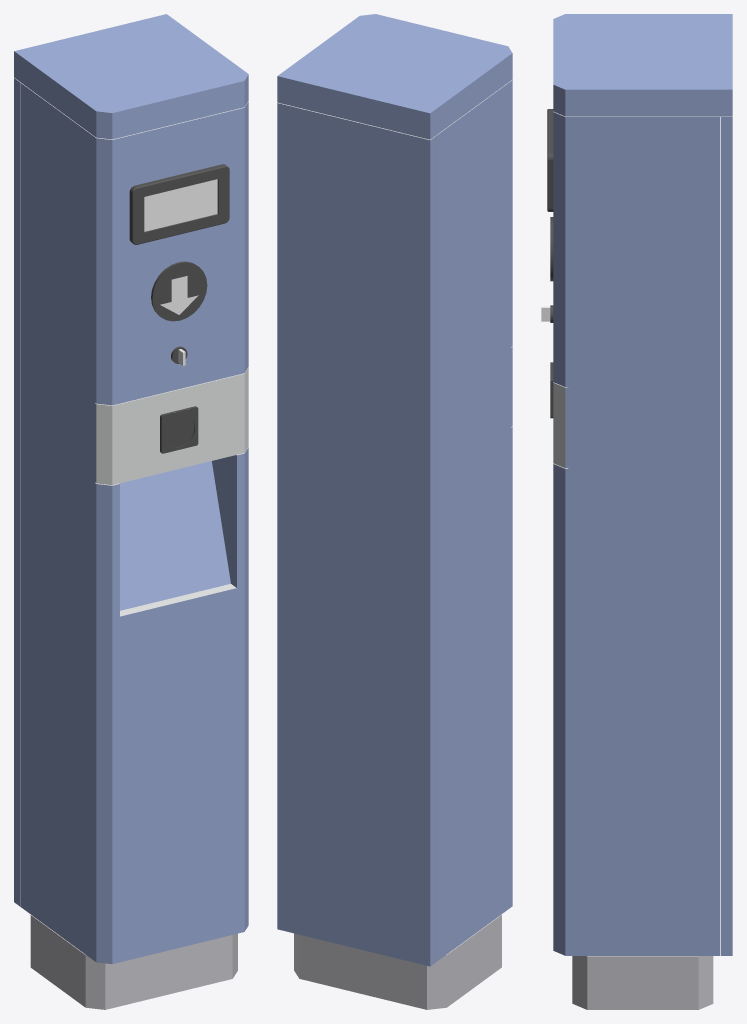
File: 直流终端1Draco.gltf
3 views of the same model, side by side, from view 1: azimuth 30°, elevation 25°; view 2: azimuth 150°, elevation 25°; view 3: azimuth 270°, elevation 25° (orthographic).
Parts seen in each view (by area): view 1: |公交充电桩1装配体|Root|公交充电桩1-1|gloss_blue, |公交充电桩1装配体|Root|公交充电桩1-1|aluminum_powdercoat, |公交充电桩1装配体|Root|公交充电桩1-1|metallic_cool_grey, |公交充电桩1装配体|Root|公交充电桩1-1|black_high_gloss_plastic, |公交充电桩1装配体|Root|公交充电桩1-1|black_high_gloss_plastic-2, |公交充电桩1装配体|Root|公交充电桩1-1|white_led, |公交充电桩1装配体|Root|公交充电桩1-1|color; view 2: |公交充电桩1装配体|Root|公交充电桩1-1|gloss_blue, |公交充电桩1装配体|Root|公交充电桩1-1|metallic_cool_grey, |公交充电桩1装配体|Root|公交充电桩1-1|color; view 3: |公交充电桩1装配体|Root|公交充电桩1-1|gloss_blue, |公交充电桩1装配体|Root|公交充电桩1-1|metallic_cool_grey, |公交充电桩1装配体|Root|公交充电桩1-1|aluminum_powdercoat, |公交充电桩1装配体|Root|公交充电桩1-1|black_high_gloss_plastic.
Boxes of the visible parts, x1,y1,x2,y2 form: |公交充电桩1装配体|Root|公交充电桩1-1|gloss_blue: (14,14,248,964); |公交充电桩1装配体|Root|公交充电桩1-1|aluminum_powdercoat: (96,367,248,616); |公交充电桩1装配体|Root|公交充电桩1-1|metallic_cool_grey: (30,915,237,1009); |公交充电桩1装配体|Root|公交充电桩1-1|black_high_gloss_plastic: (129,164,229,452); |公交充电桩1装配体|Root|公交充电桩1-1|black_high_gloss_plastic-2: (151,261,207,453); |公交充电桩1装配体|Root|公交充电桩1-1|white_led: (144,179,217,231); |公交充电桩1装配体|Root|公交充电桩1-1|color: (14,78,248,954); |公交充电桩1装配体|Root|公交充电桩1-1|gloss_blue: (277,14,512,966); |公交充电桩1装配体|Root|公交充电桩1-1|metallic_cool_grey: (294,915,501,1009); |公交充电桩1装配体|Root|公交充电桩1-1|color: (278,80,512,961); |公交充电桩1装配体|Root|公交充电桩1-1|gloss_blue: (553,14,732,955); |公交充电桩1装配体|Root|公交充电桩1-1|metallic_cool_grey: (572,956,713,1009); |公交充电桩1装配体|Root|公交充电桩1-1|aluminum_powdercoat: (553,383,565,467); |公交充电桩1装配体|Root|公交充电桩1-1|black_high_gloss_plastic: (547,109,553,418).
Size of the model in its own units: 0.3 by 1.7 by 0.32.
